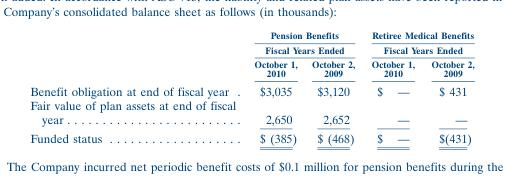table: (29, 29, 473, 145)
table column: (29, 29, 246, 145), (362, 29, 422, 145), (303, 29, 362, 145), (246, 29, 303, 145), (422, 29, 473, 145)
table column header: (29, 29, 473, 81)
table row: (29, 97, 473, 128), (29, 29, 473, 56), (29, 56, 473, 81), (29, 128, 473, 145), (29, 81, 473, 97)
table spanning cell: (246, 29, 362, 56), (362, 29, 473, 56)
